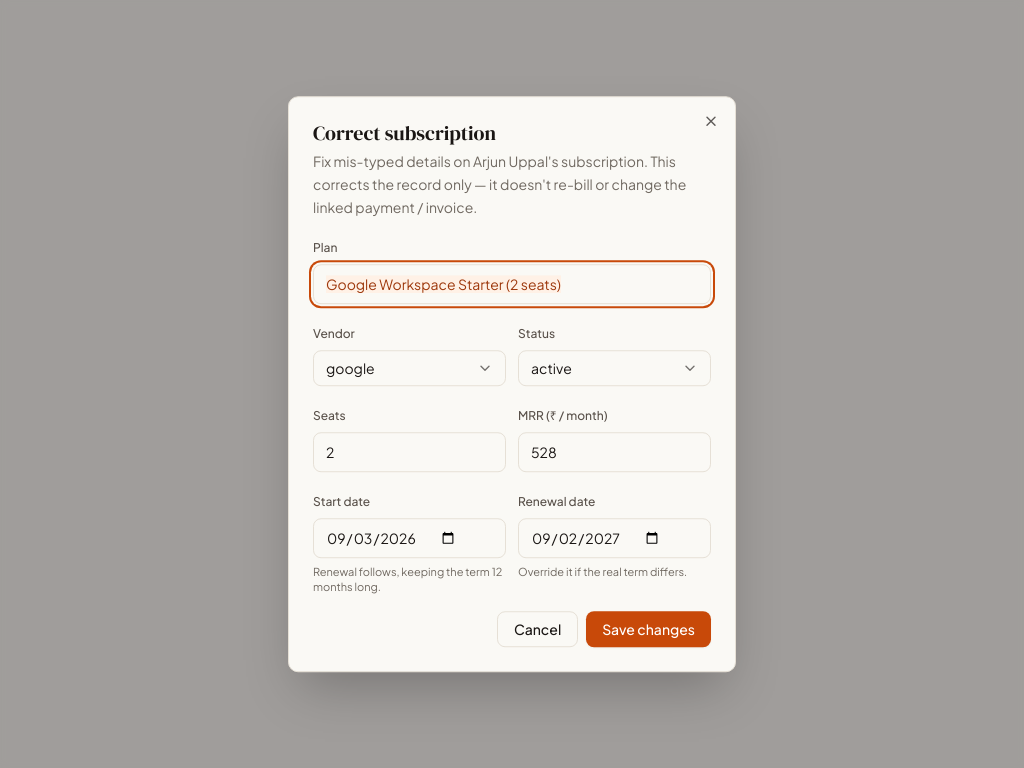
Correct subscription — the renewal date follows the start date › moves the renewal by the same 12 months when the start is corrected
Check: the date field with id "sub_renewal" holds "2027-09-02", box [518,518,711,558]
Type "2026-08-01" into the date field with id "sub_start".
click(410, 538); type("2026-08-01")  # box [313,518,506,558]
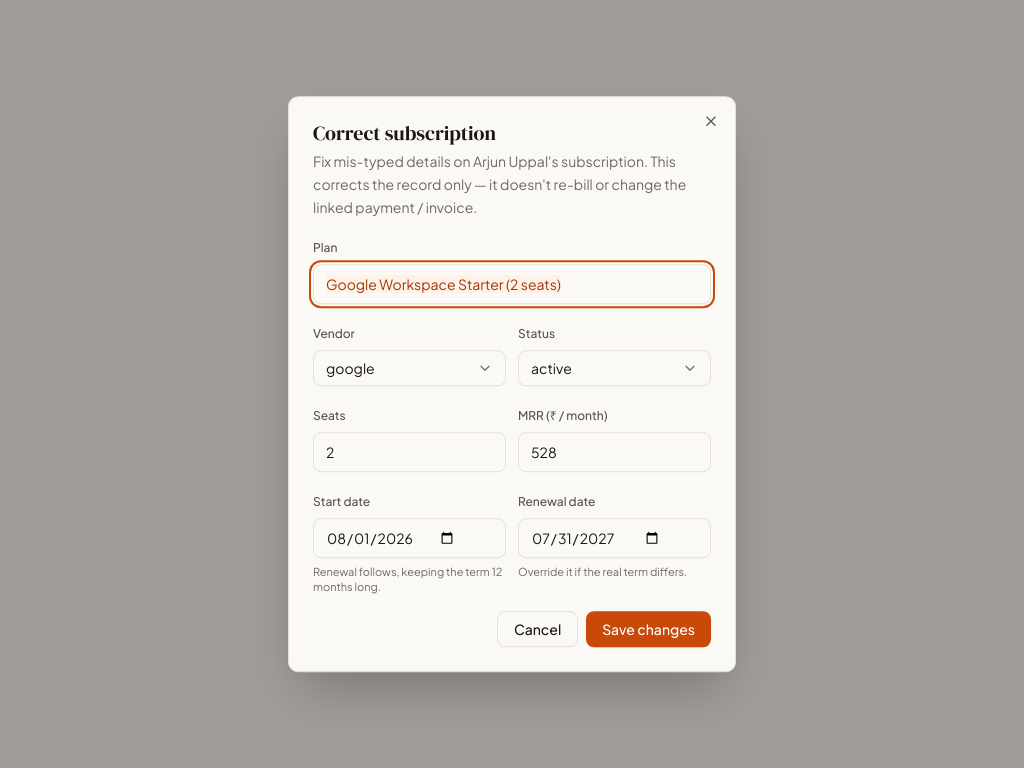
Check: the date field with id "sub_renewal" holds "2027-07-31", box [518,518,711,558]
